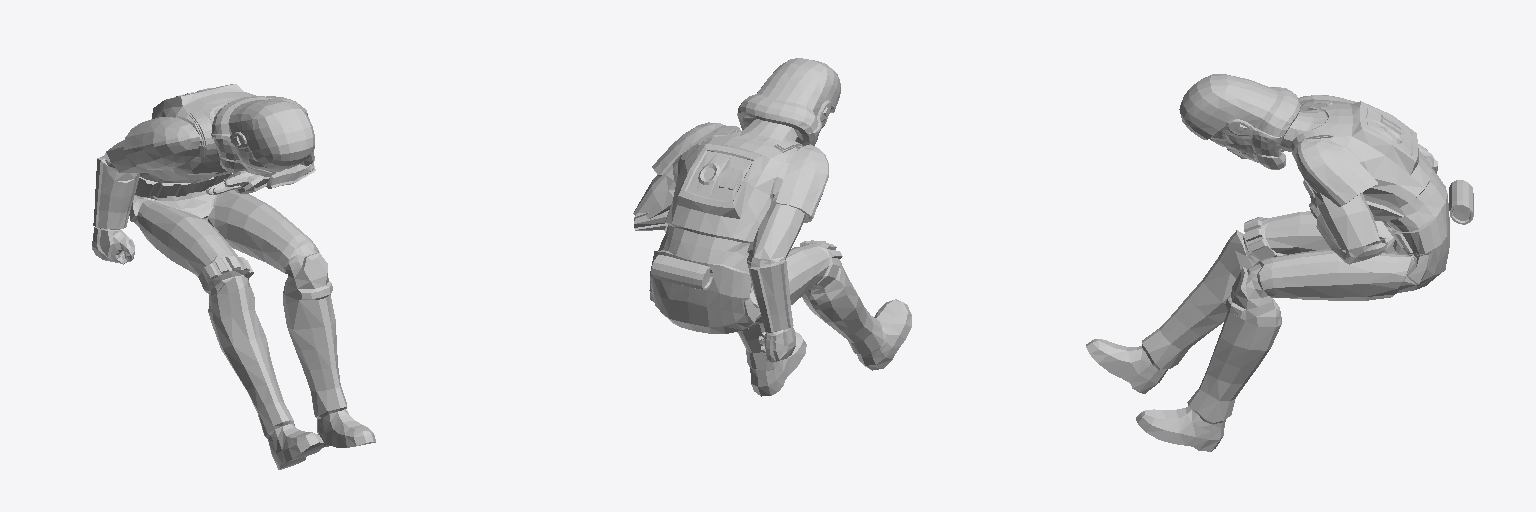
Rendered from Move_000240.obj.
3 views of the same model, side by side, from view 1: azimuth 30°, elevation 25°; view 2: azimuth 150°, elevation 25°; view 3: azimuth 270°, elevation 25° (orthographic).
Size of the model in its own units: 1.37 by 2.44 by 2.48.